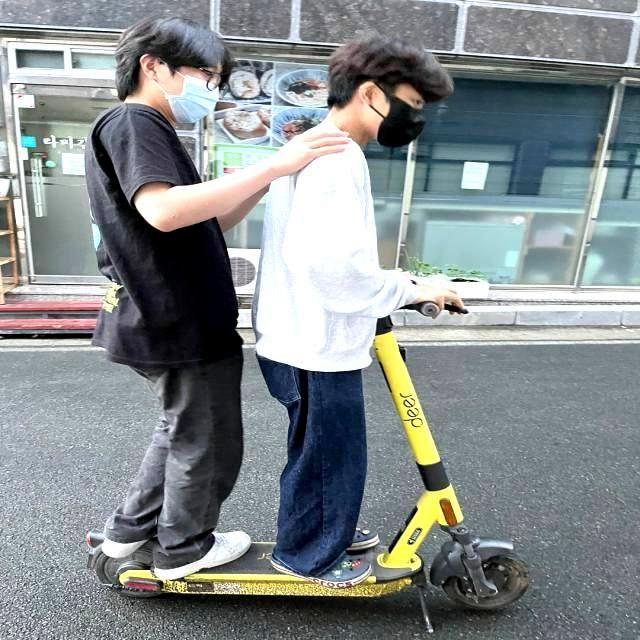bare_head: (93, 1, 224, 130), (321, 32, 456, 154)
human: (70, 3, 258, 577), (266, 29, 464, 571)
kickboard: (78, 495, 535, 618)
